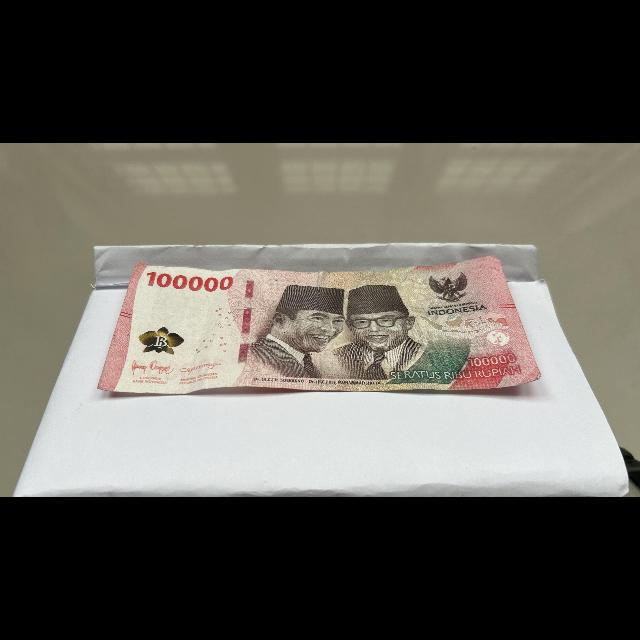Palsu-100k: (89, 253, 548, 396)
Tinta-Palsu-100k: (135, 324, 188, 357)
